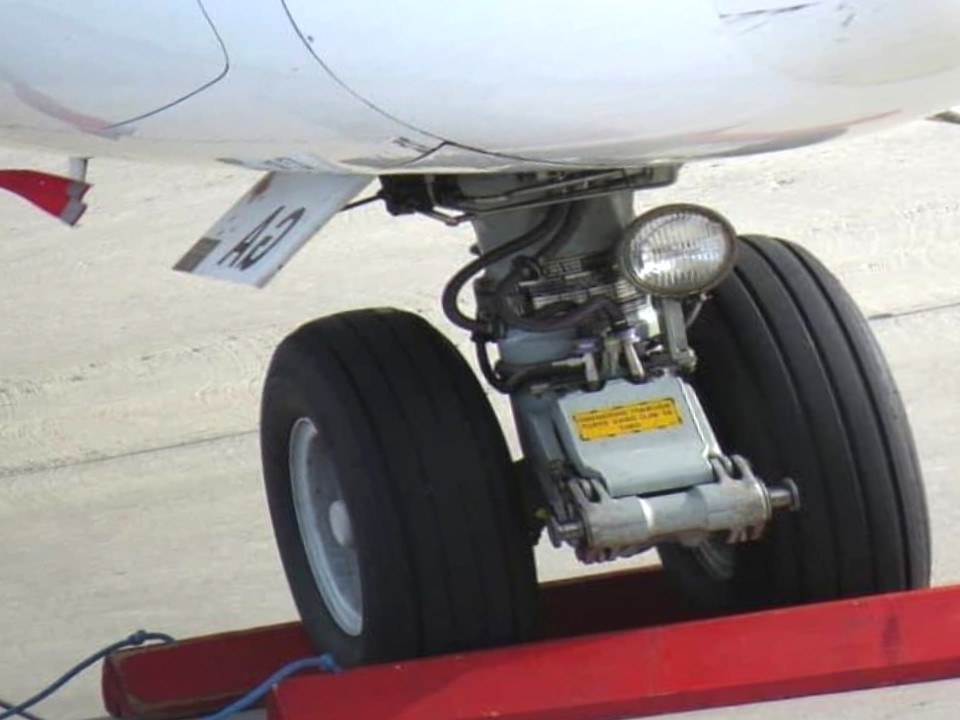chock: (236, 551, 960, 720), (79, 544, 767, 720)
wheel: (604, 204, 953, 621), (229, 283, 561, 677)
